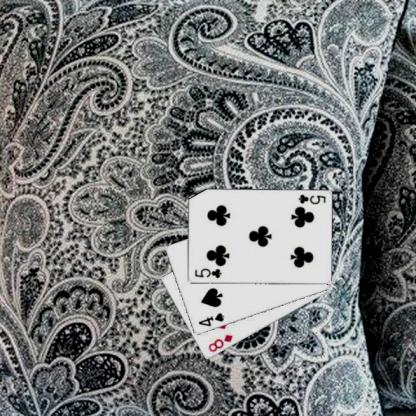4S: (195, 310, 225, 328)
5C: (295, 192, 326, 206), (192, 266, 223, 279)
8D: (206, 332, 234, 354)
